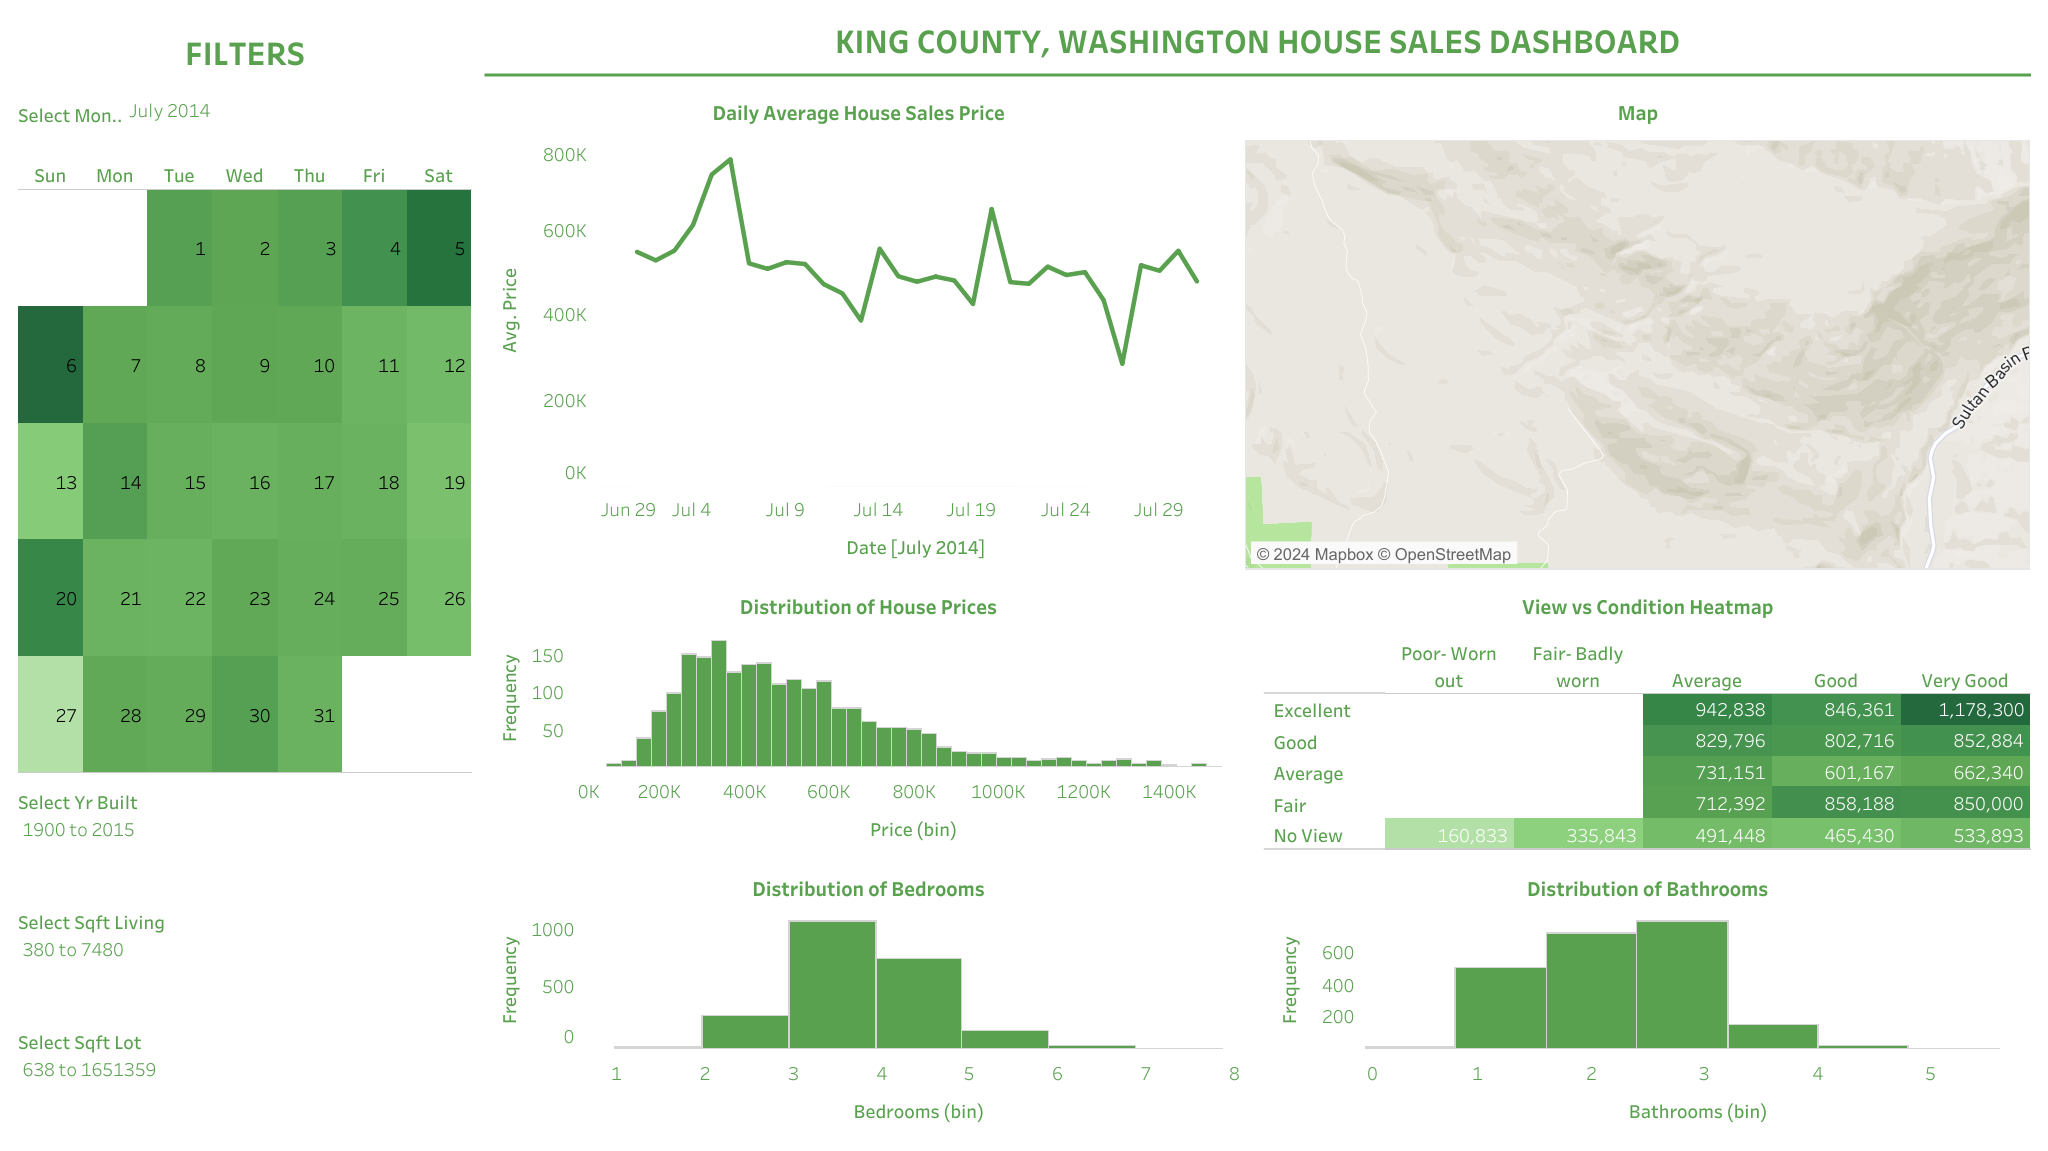

The dashboard page shown, as its layout file describes it:
{"tool":"tableau","page":{"name":"Dashboard 1","canvas":[1000,1000],"units":"permille","ordinal":0},"visuals":[{"type":"text","box":[5.1,9.1,228.3,59.2]},{"type":"text","box":[233.3,9.1,761.6,59.2]},{"type":"filter","title":"Sheet 7","param":"[federated.08je52b01stjlc1438drl1c4v6l4].[my:date:ok]","box":[5.1,68.3,228.3,102.5]},{"type":"blank","box":[233.3,68.3,761.6,11.4]},{"type":"worksheet","title":"LineChart","mark":"Automatic","rows":["price"],"cols":["date"],"box":[233.3,79.7,380.2,420.3]},{"type":"worksheet","title":"Map","mark":"Automatic","box":[613.5,79.7,381.4,420.3]},{"type":"blank","box":[5.1,170.9,228.3,11.4]},{"type":"worksheet","title":"Sheet 7","mark":"Square","rows":["date"],"cols":["date"],"box":[5.1,182.2,228.3,535.3]},{"type":"worksheet","title":"HistHousePrice","mark":"Automatic","rows":["price"],"cols":["Price (bin)"],"box":[233.3,500,380.8,245.5]},{"type":"worksheet","title":"Heatmap","mark":"Square","rows":["view"],"cols":["condition"],"box":[614.1,500,380.8,245.5]},{"type":"filter","title":"Sheet 7","param":"[federated.08je52b01stjlc1438drl1c4v6l4].[none:yr_built:qk]","box":[5.1,717.6,228.3,91.1]},{"type":"worksheet","title":"HistBedrooms","mark":"Automatic","rows":["bedrooms"],"cols":["Bedrooms (bin)"],"box":[233.3,745.5,380.8,245.4]},{"type":"worksheet","title":"HistBathrooms","mark":"Automatic","rows":["bathrooms"],"cols":["Bathrooms (bin)"],"box":[614.1,745.5,380.8,245.4]},{"type":"filter","title":"Sheet 7","param":"[federated.08je52b01stjlc1438drl1c4v6l4].[none:sqft_living:qk]","box":[5.1,808.7,228.3,91.1]},{"type":"filter","title":"Sheet 7","param":"[federated.08je52b01stjlc1438drl1c4v6l4].[none:sqft_lot:qk]","box":[5.1,899.8,228.3,91.1]}]}

Visuals, with their boxes on the dashboard's canvas, which has no fixed pixel size, in thousandths of its width and height (x1, y1, x2, y2). These are canvas units, not pixel positions in the 2048x1151 screenshot, which may show the page scaled, cropped or inside an application window:
text: box(5, 9, 233, 68)
text: box(233, 9, 995, 68)
"Sheet 7" filter: box(5, 68, 233, 171)
blank: box(233, 68, 995, 80)
"LineChart" worksheet: box(233, 80, 614, 500)
"Map" worksheet: box(614, 80, 995, 500)
blank: box(5, 171, 233, 182)
"Sheet 7" worksheet (Square marks): box(5, 182, 233, 718)
"HistHousePrice" worksheet: box(233, 500, 614, 746)
"Heatmap" worksheet (Square marks): box(614, 500, 995, 746)
"Sheet 7" filter: box(5, 718, 233, 809)
"HistBedrooms" worksheet: box(233, 746, 614, 991)
"HistBathrooms" worksheet: box(614, 746, 995, 991)
"Sheet 7" filter: box(5, 809, 233, 900)
"Sheet 7" filter: box(5, 900, 233, 991)
